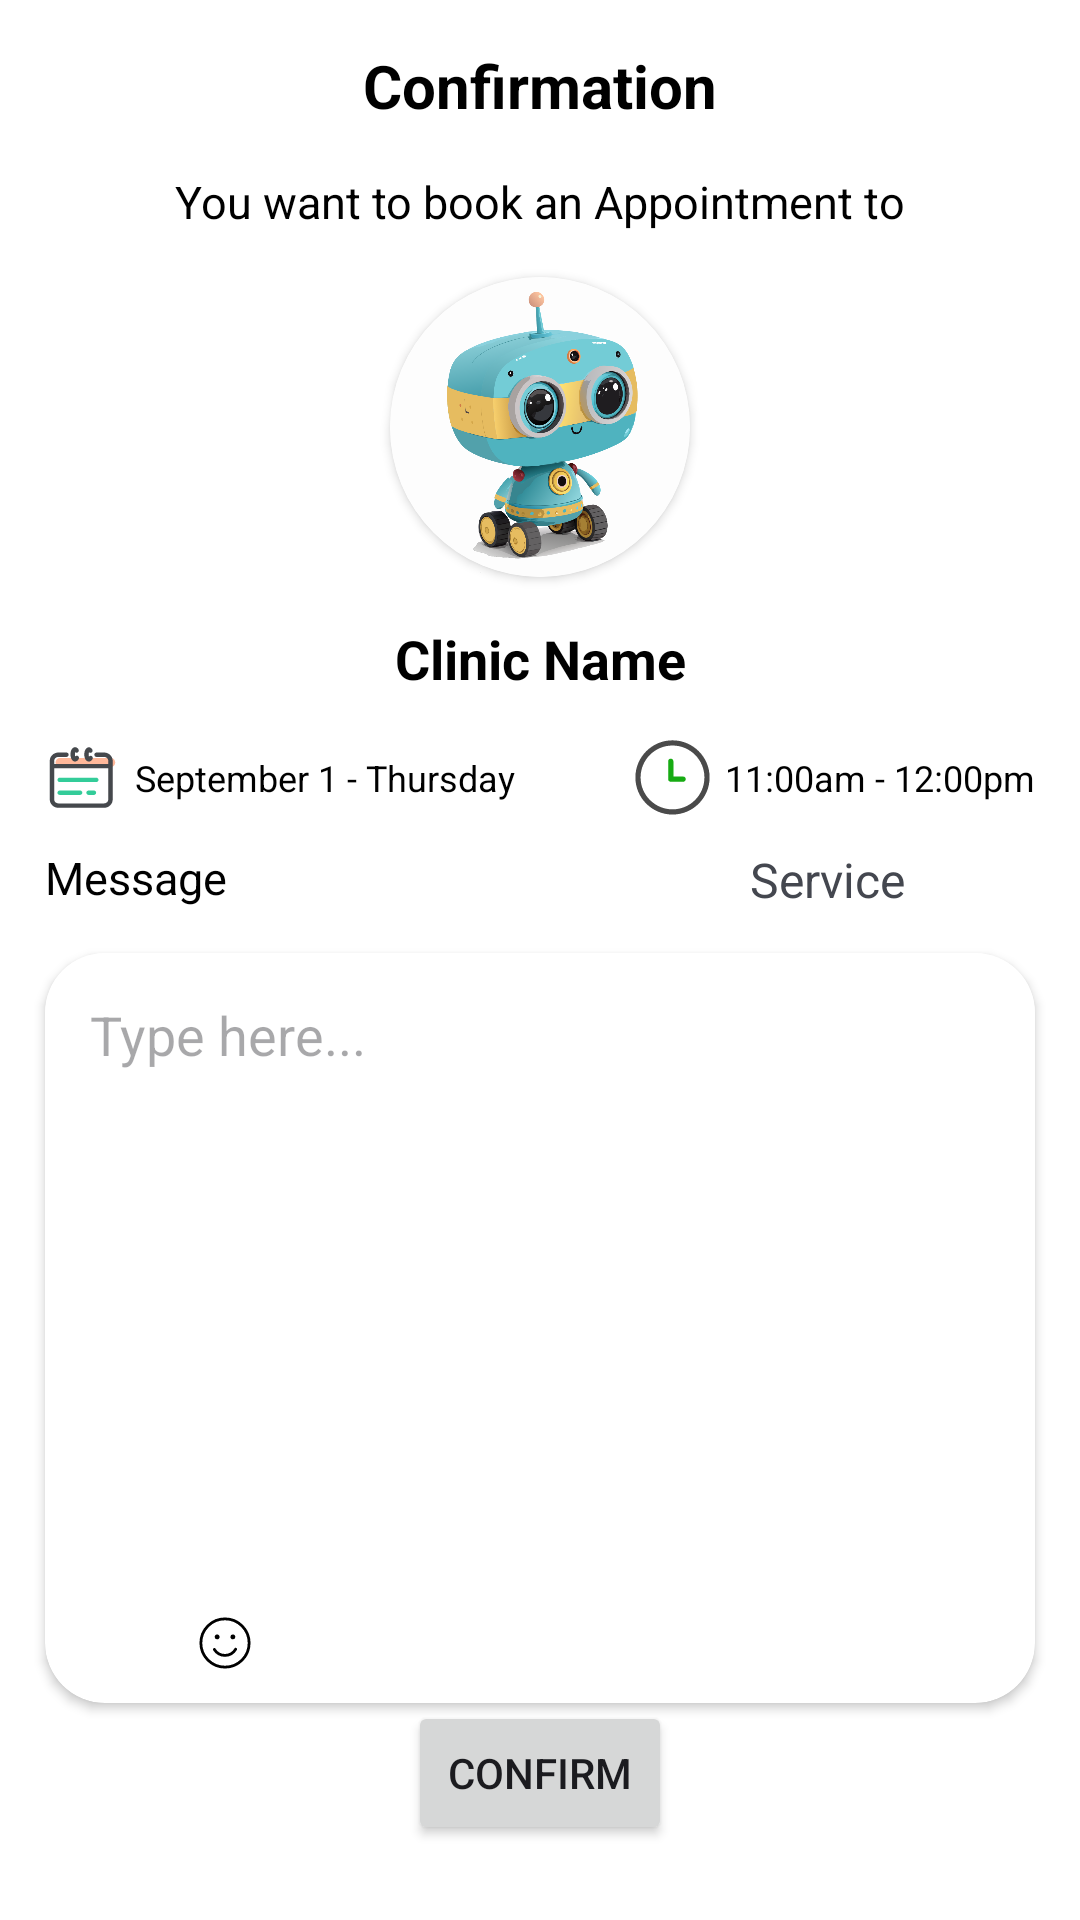

Icons on this 1080*1920 Android screen, each with the point to tap as (x,y):
calendar: (82,777)
clock: (672,777)
Emoji Picker: (225,1643)
